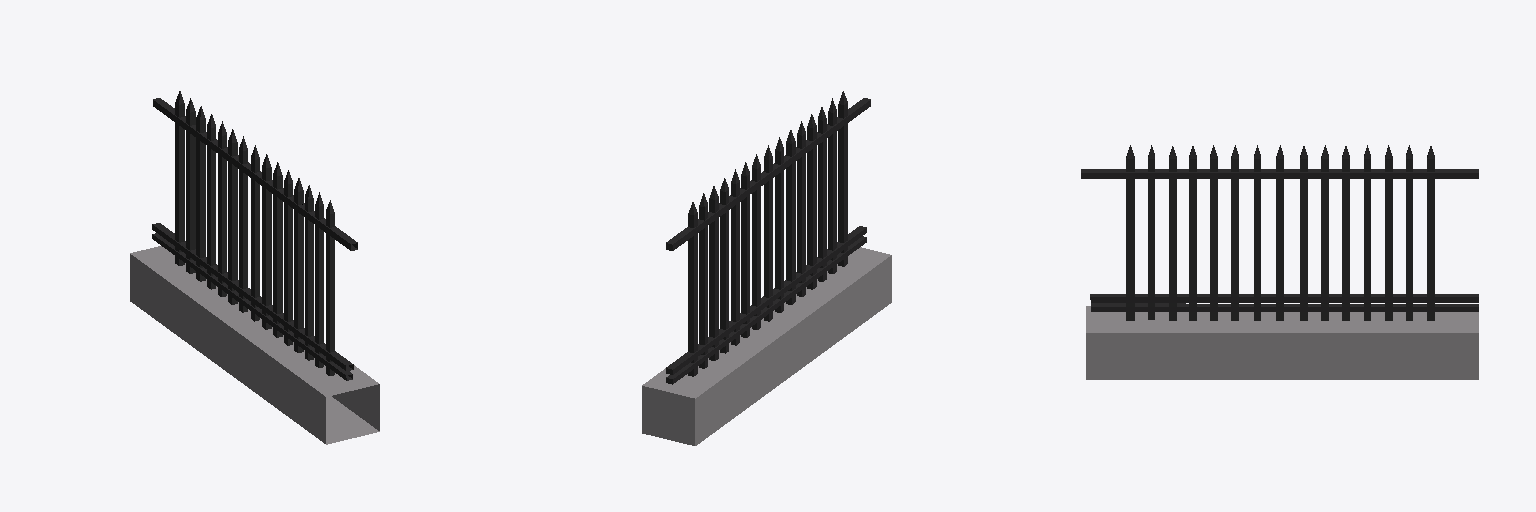
3 views of the same model, side by side, from view 1: azimuth 30°, elevation 25°; view 2: azimuth 150°, elevation 25°; view 3: azimuth 270°, elevation 25° (orthographic).
Parts seen in each view (by area): view 1: 立方体.002; view 2: 立方体.002; view 3: 立方体.002.
Boxes of the visible parts, x1,y1,x2,y2 form: 立方体.002: [130, 91, 379, 444]; 立方体.002: [642, 91, 891, 445]; 立方体.002: [1081, 145, 1478, 379].
Bounding box in the file's own units: 1.74 × 6.89 × 11.15.
Materials: 1 (1 with a texture image).